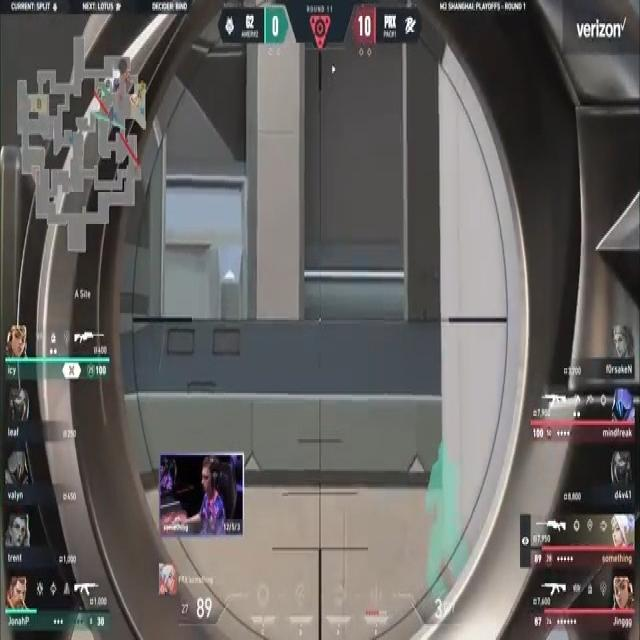ally behind wall: (422, 440, 469, 600)
